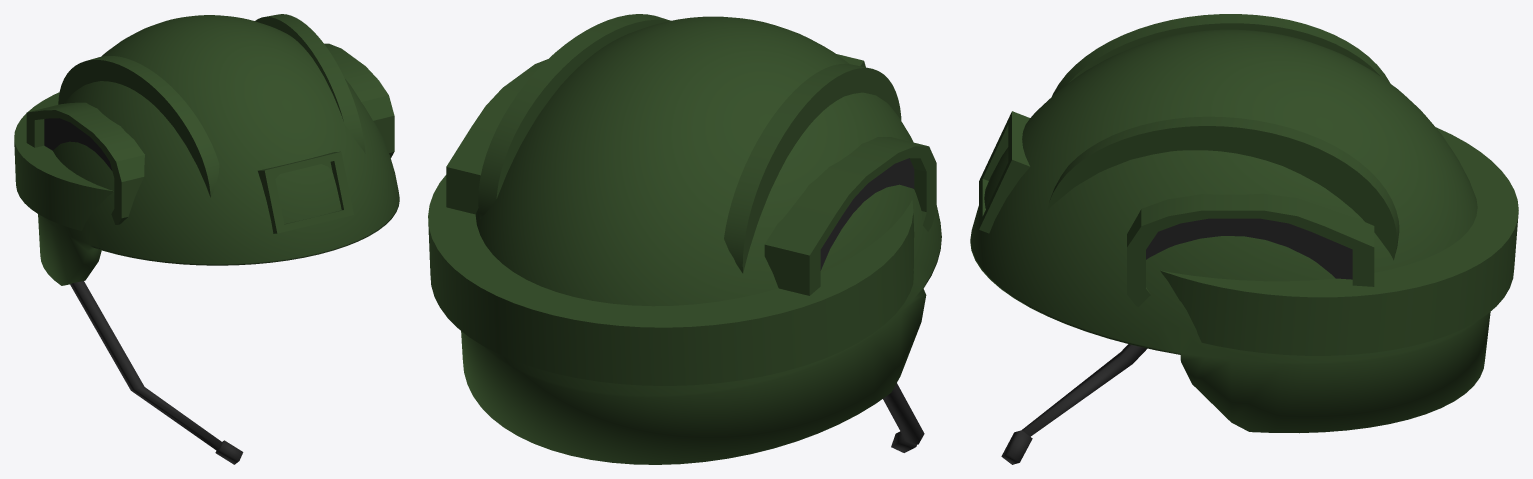
File: ispitatel_face_model_1.gltf
3 renders of one model, left to right at view 1: azimuth 30°, elevation 25°; view 2: azimuth 150°, elevation 25°; view 3: azimuth 270°, elevation 25°, orthographic. The views are drawn at different scales.
Visible parts, largest first — view 1: Сфера, Куб.001, Цилиндр, Цилиндр.001, Куб.003, Цилиндр.002, Куб.002, Куб; view 2: Сфера, Цилиндр, Куб.001, Цилиндр.001, Цилиндр.002, Куб, Куб.003; view 3: Сфера, Цилиндр, Куб, Цилиндр.002, Цилиндр.001, Куб.002, Куб.003.
Boxes of the visible parts, x1,y1,x2,y2 form: Сфера: (38, 15, 399, 285); Куб.001: (26, 102, 144, 224); Цилиндр: (14, 92, 113, 230); Цилиндр.001: (58, 56, 219, 197); Куб.003: (70, 281, 243, 464); Цилиндр.002: (255, 14, 365, 153); Куб.002: (258, 151, 353, 233); Куб: (324, 43, 394, 157); Сфера: (461, 16, 941, 464); Цилиндр: (428, 175, 914, 385); Куб.001: (764, 137, 936, 295); Цилиндр.001: (724, 63, 901, 273); Цилиндр.002: (478, 14, 670, 219); Куб: (446, 59, 547, 214); Куб.003: (883, 383, 924, 452); Сфера: (970, 29, 1490, 433); Цилиндр: (1160, 127, 1518, 355); Куб: (1127, 193, 1374, 306); Цилиндр.002: (1047, 116, 1399, 260); Цилиндр.001: (1052, 14, 1390, 96); Куб.002: (979, 111, 1030, 233); Куб.003: (1001, 344, 1147, 464).
Size of the model in its own units: 20.72 by 22.03 by 23.8.
